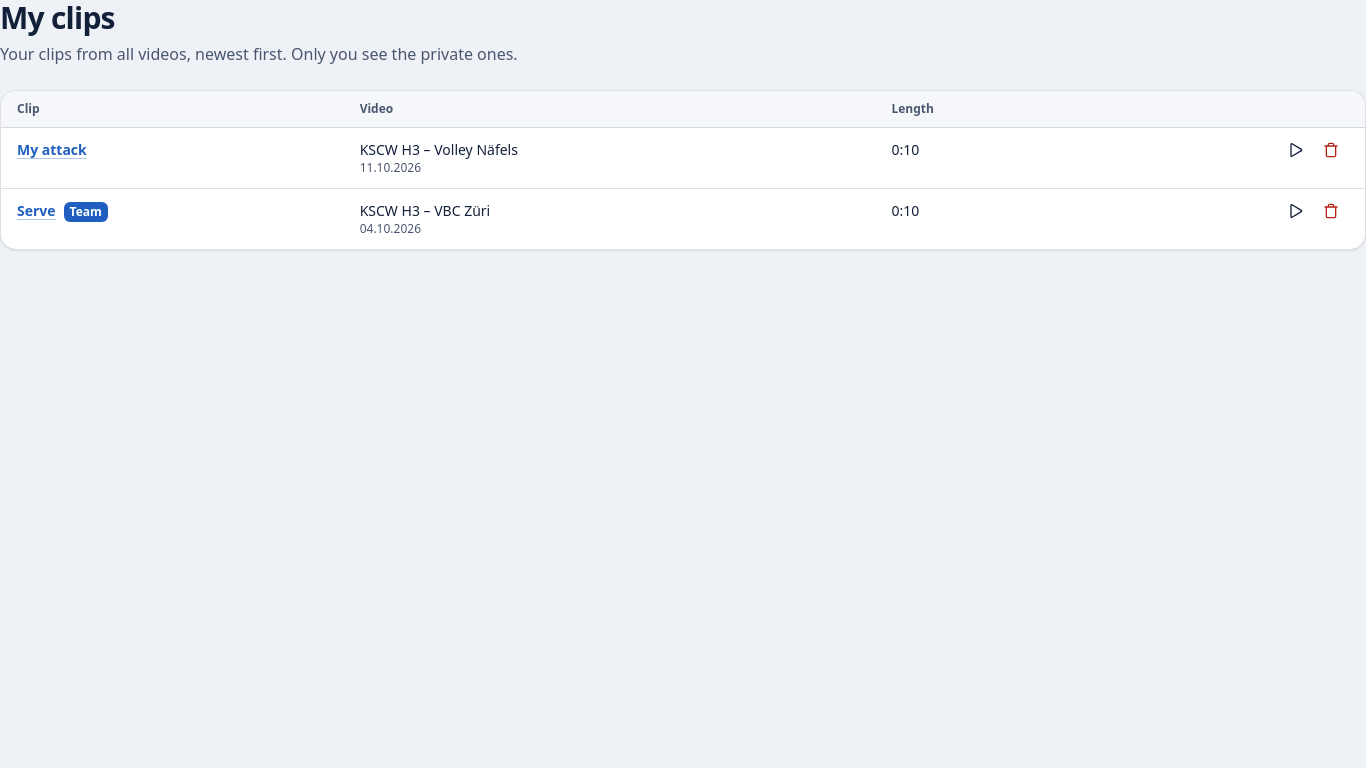
Test: ClipsPage › lists my clips newest first; each opens the video at the clip
Expected: the link named "Watch My attack" is shown, left=1287, top=142, right=1303, bottom=158
Expected: the text "Team" is shown, left=64, top=202, right=108, bottom=222
Click the button named "Delete Serve".
click(1331, 211)  # box left=1313, top=193, right=1349, bottom=229
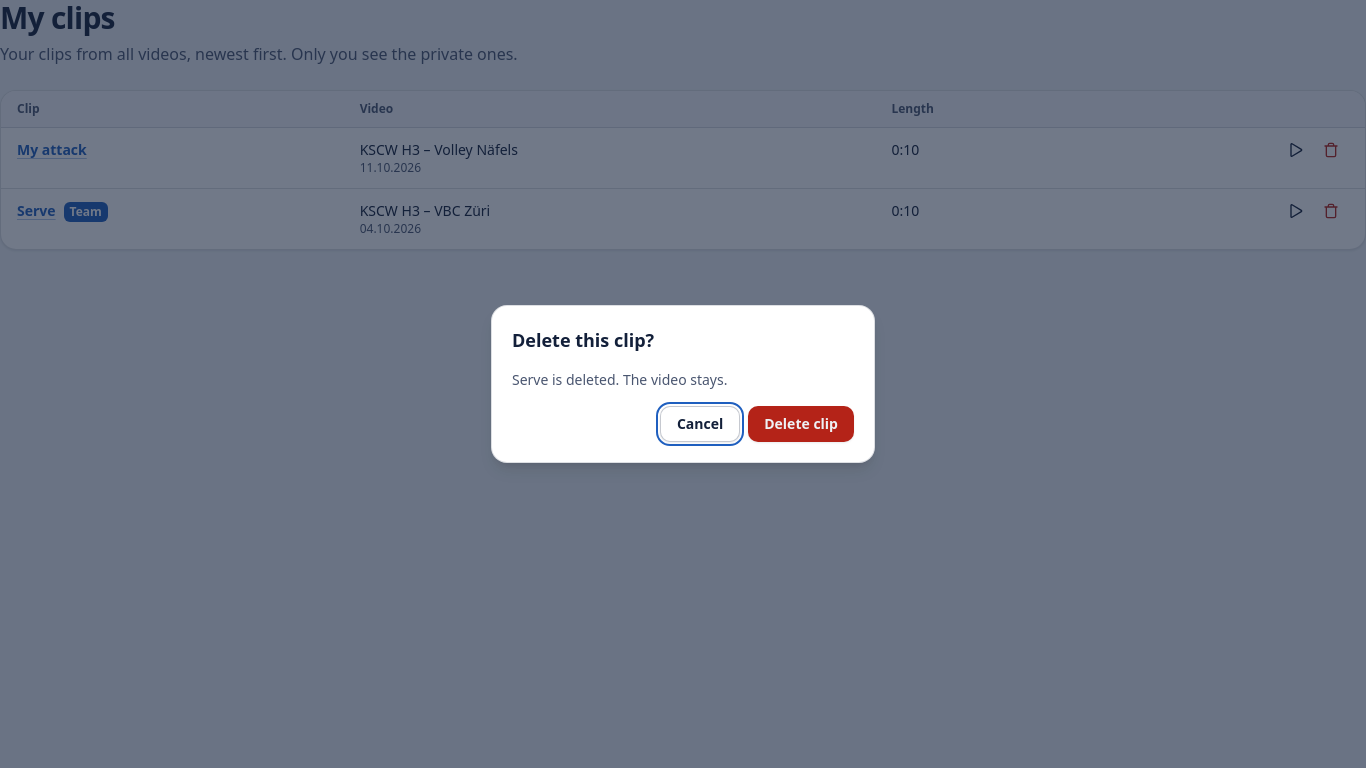
Click the button "Delete clip".
click(801, 424)  # box left=748, top=406, right=854, bottom=442
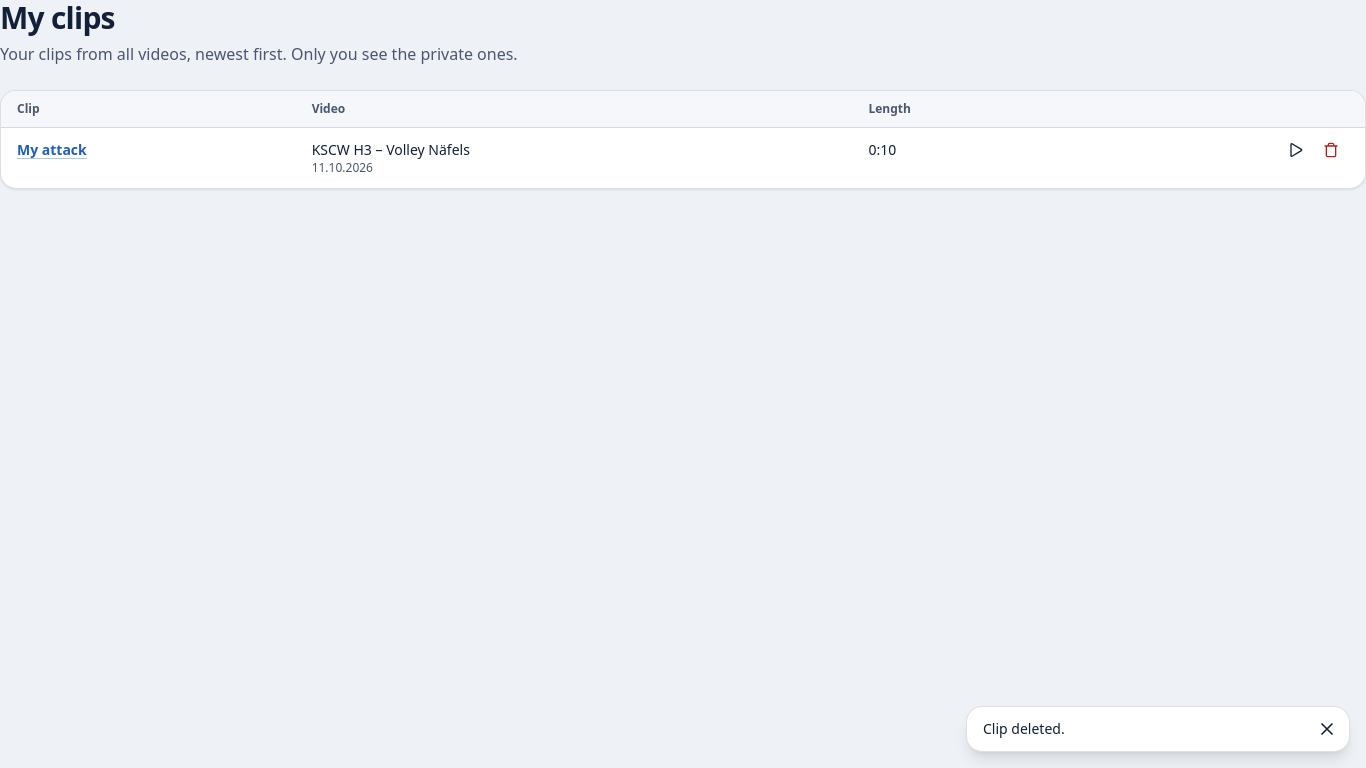
Expected: the link "Serve" is gone
